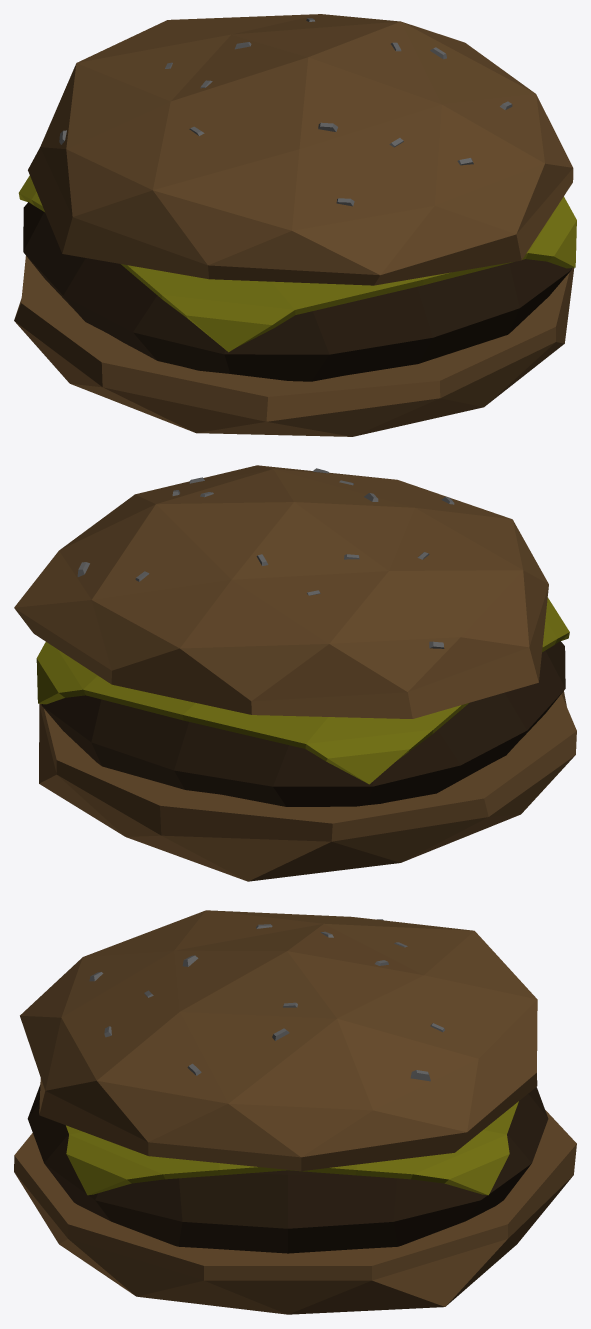
The model's file is Cheeseburger.obj.
3 views of the same model, one above another, from view 1: azimuth 30°, elevation 25°; view 2: azimuth 150°, elevation 25°; view 3: azimuth 270°, elevation 25° (orthographic). The views are drawn at different scales.
Visible parts, largest first — view 1: Cheeseburger_Cube.022; view 2: Cheeseburger_Cube.022; view 3: Cheeseburger_Cube.022.
Boxes of the visible parts, box(x1,y1,x2,y2) form: Cheeseburger_Cube.022: box(14, 14, 576, 436); Cheeseburger_Cube.022: box(14, 465, 576, 881); Cheeseburger_Cube.022: box(14, 910, 576, 1314).
Bounding box in the file's own units: 1.46 × 0.9382 × 1.54.
